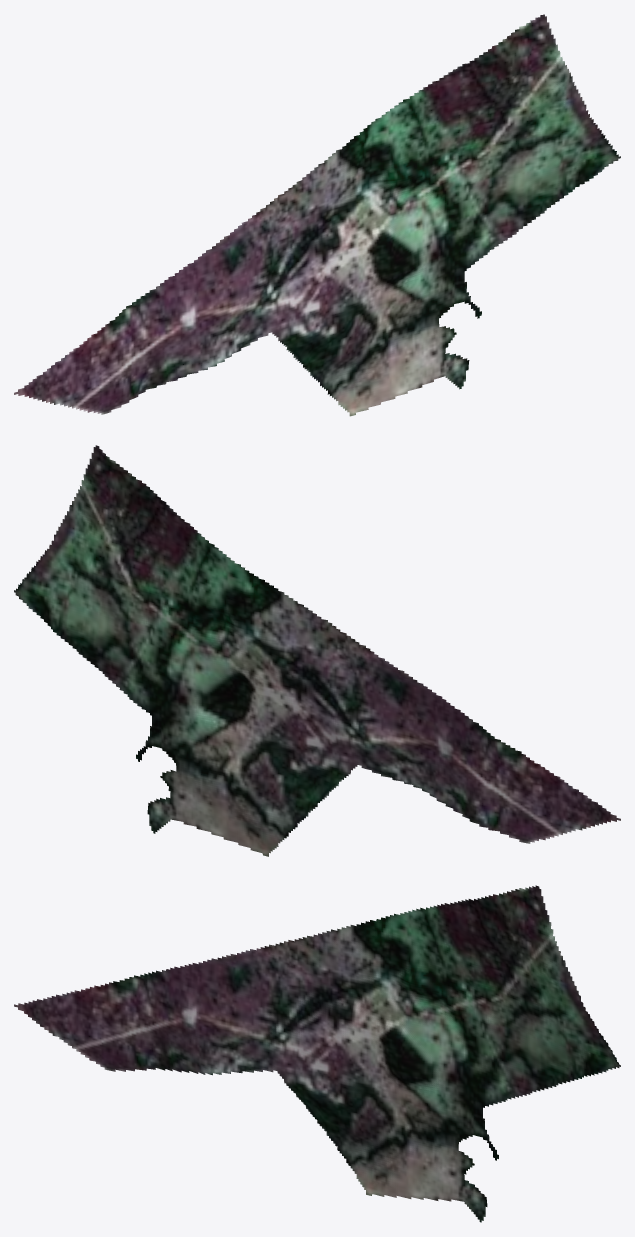
File: terreno.obj
The picture shows the model from 3 angles, top to bottom: view 1: azimuth 30°, elevation 25°; view 2: azimuth 150°, elevation 25°; view 3: azimuth 330°, elevation 25°; orthographic projection.
Size of the model in its own units: 1.92 by 1.1 by 0.0774.
1 material, 1 textured.
